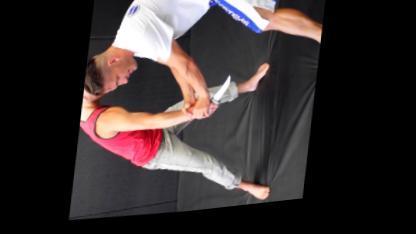knife: (209, 78, 234, 124)
